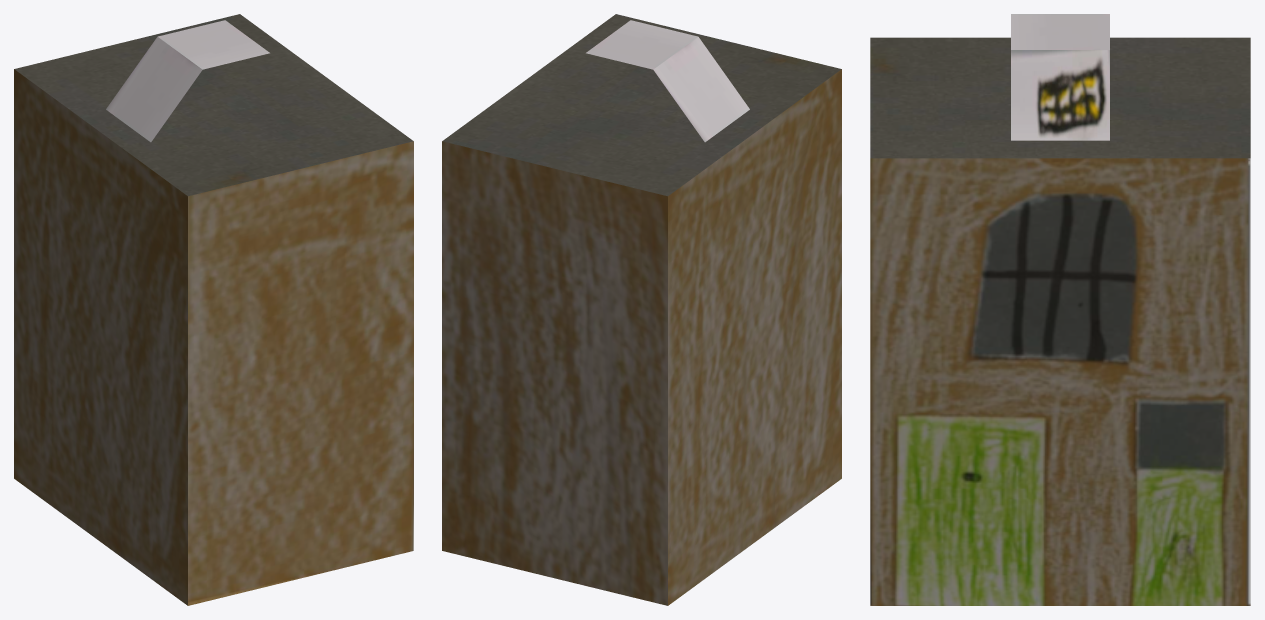
3 views of the same model, side by side, from view 1: azimuth 30°, elevation 25°; view 2: azimuth 150°, elevation 25°; view 3: azimuth 270°, elevation 25° (orthographic). The views are drawn at different scales.
Visible parts, largest first — view 1: Cube; view 2: Cube; view 3: Cube.
Part boxes in pixels (x1,y1,x2,y2): Cube: (14,14,413,605); Cube: (442,14,841,605); Cube: (870,14,1250,605).
Size of the model in its own units: 7.5 by 14.91 by 10.
1 material, 1 textured.
